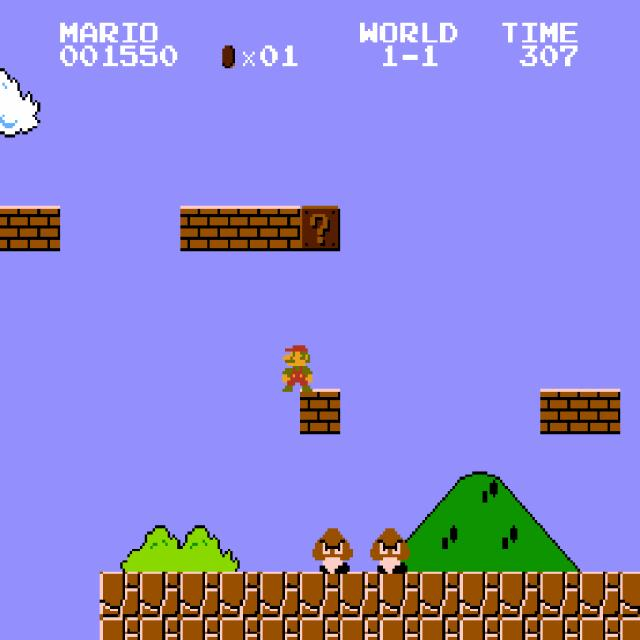brick_block: (20, 206, 60, 251), (180, 206, 220, 251), (220, 206, 260, 251), (260, 206, 300, 251), (300, 389, 340, 434), (540, 389, 580, 434), (580, 389, 620, 434), (0, 206, 20, 251)
goomba: (310, 526, 352, 574), (368, 526, 410, 574)
little_mario: (275, 343, 318, 391)
mystery_block: (300, 206, 340, 251)
undestructible_block: (100, 572, 140, 617), (140, 572, 180, 617), (180, 572, 220, 617), (220, 572, 260, 617), (260, 572, 300, 617), (300, 572, 340, 617), (340, 572, 380, 617), (380, 572, 420, 617), (420, 572, 460, 617), (460, 572, 500, 617), (500, 572, 540, 617), (540, 572, 580, 617), (580, 572, 620, 617), (100, 617, 140, 640), (140, 617, 180, 640), (180, 617, 220, 640), (220, 617, 260, 640), (260, 617, 300, 640), (300, 617, 340, 640), (340, 617, 380, 640), (380, 617, 420, 640), (420, 617, 460, 640), (460, 617, 500, 640), (500, 617, 540, 640), (540, 617, 580, 640), (580, 617, 620, 640), (620, 572, 640, 617), (620, 617, 640, 640)
